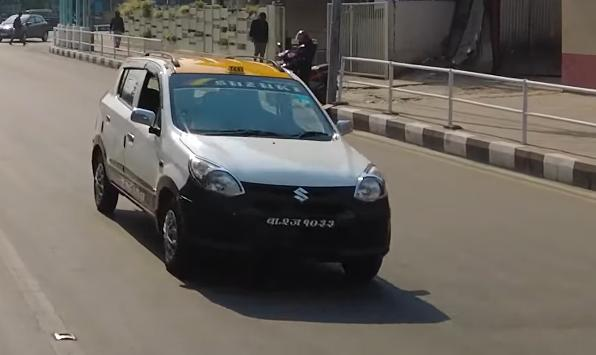car: (0, 13, 51, 45)
taxi: (85, 46, 392, 283)
